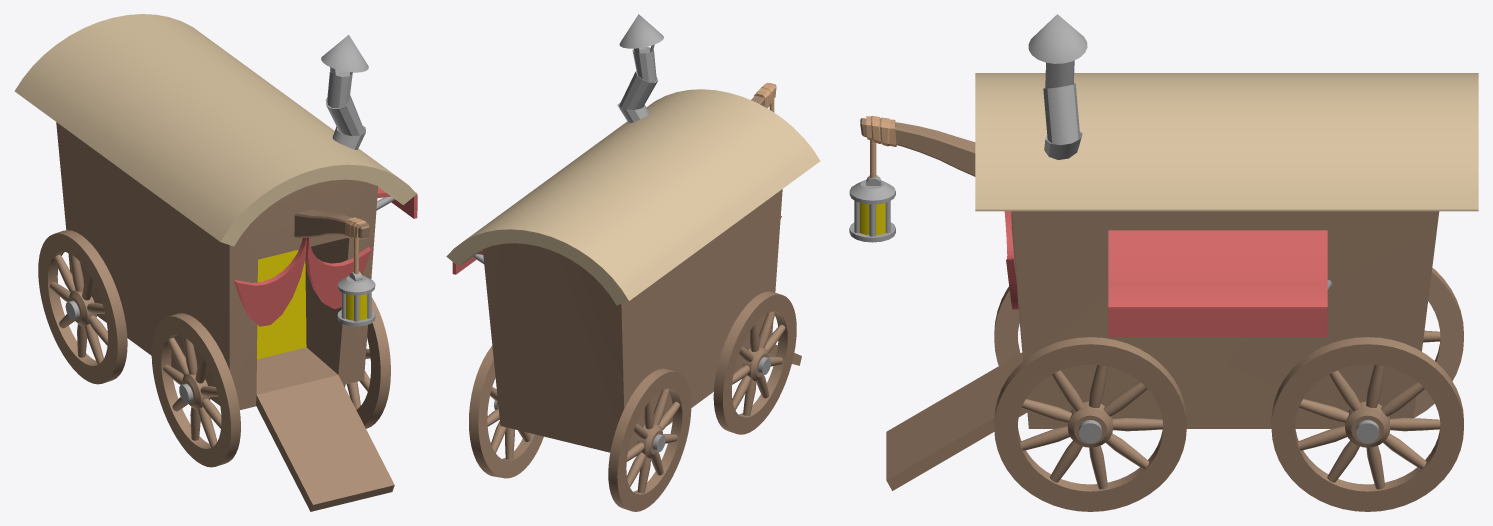
Rendered from Mod_Wagon.fbx.
3 renders of one model, left to right at view 1: azimuth 30°, elevation 25°; view 2: azimuth 150°, elevation 25°; view 3: azimuth 270°, elevation 25°, orthographic. The views are drawn at different scales.
Parts seen in each view (by area): view 1: Wagon2; view 2: Wagon2; view 3: Wagon2.
Part boxes in pixels (bbox=[...]): Wagon2: bbox=[14, 14, 417, 511]; Wagon2: bbox=[446, 14, 820, 511]; Wagon2: bbox=[849, 14, 1478, 511].
Bounding box in the file's own units: 278 × 426 × 492.
